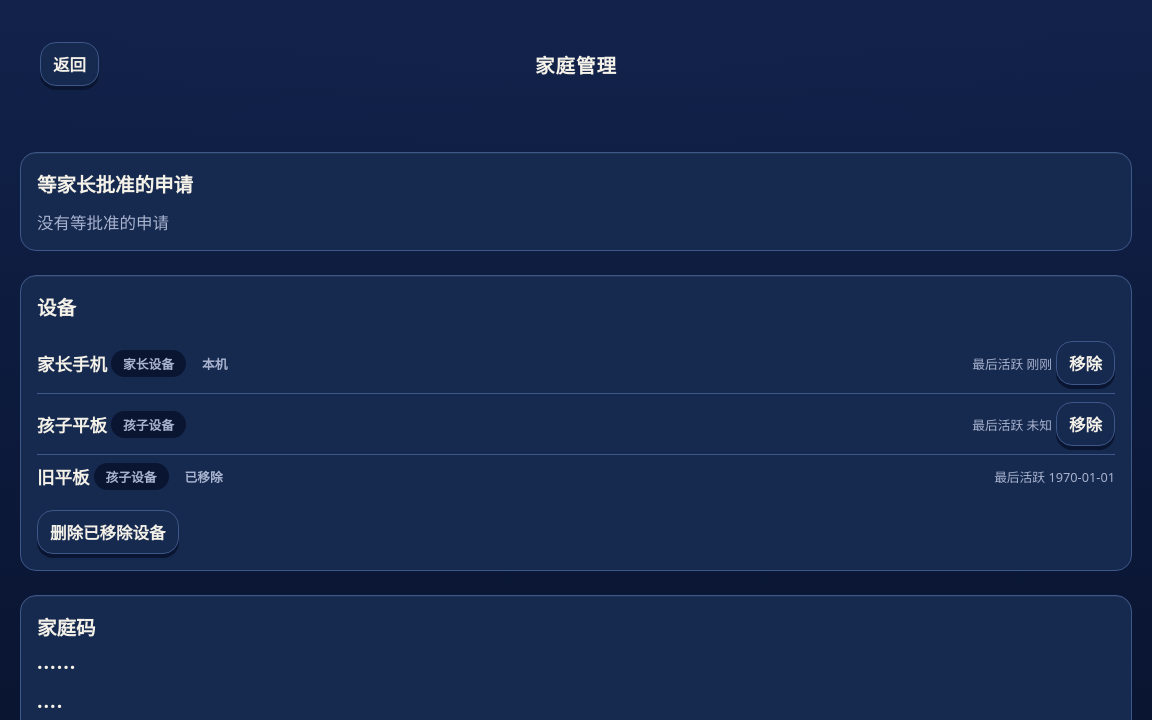
Test: 清除已移除设备（ADR 0012 墓碑可硬删 / CONTEXT.md 清除已移除设备） › 删除失败 404 → 名册区 not-found 错误反馈（错误行 + 刷新可重试）
What coordinates should you click on to do the following:
click the button with class "btn-clear-revoked"
I would click on:
 (108, 532)
Its box is x1=37 y1=510 x2=178 y2=554.
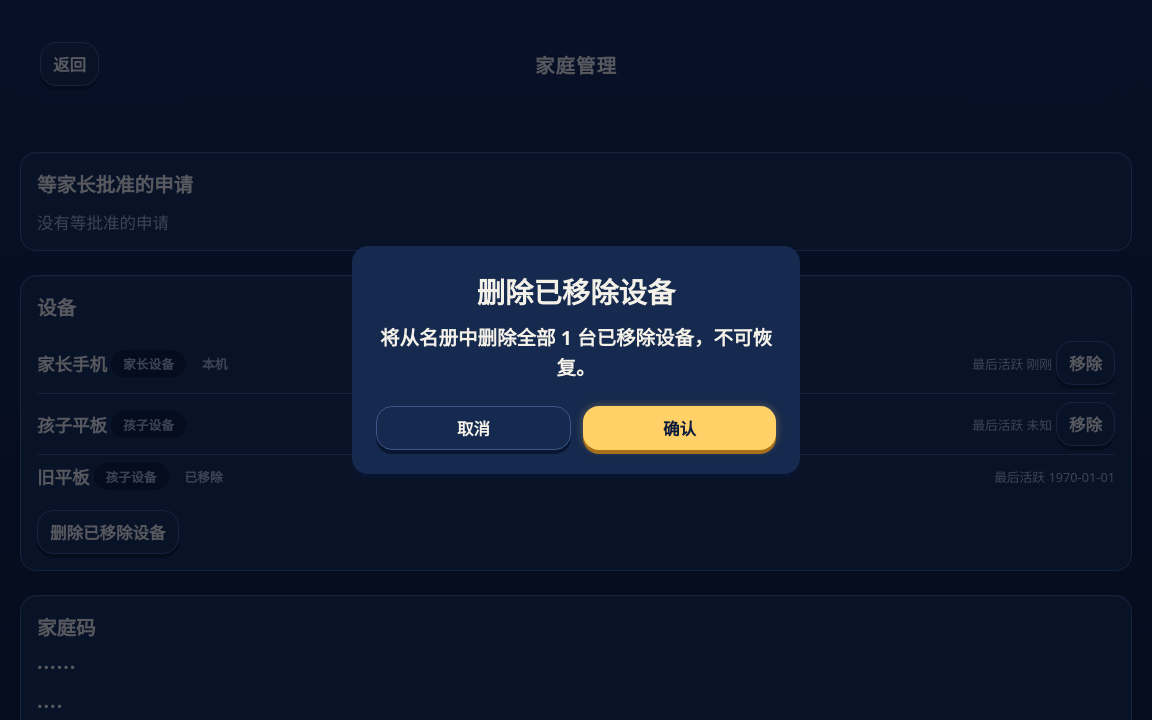
What coordinates should you click on to do the following:
click the button "确认"
I would click on:
 (680, 428)
Its box is x1=583 y1=406 x2=776 y2=450.
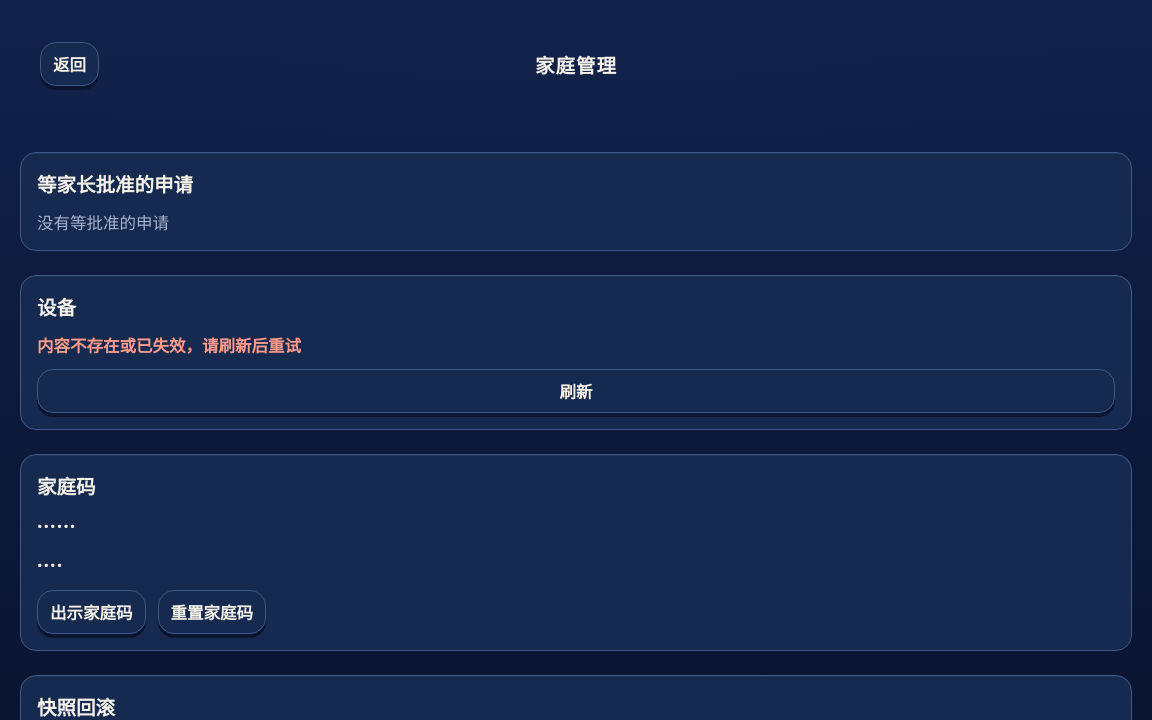
Result: the message with class "star-section-error" reads "内容不存在或已失效，请刷新后重试" at x1=37 y1=334 x2=301 y2=357
Result: the button with class "star-section-refresh" is shown at x1=37 y1=369 x2=1115 y2=413
